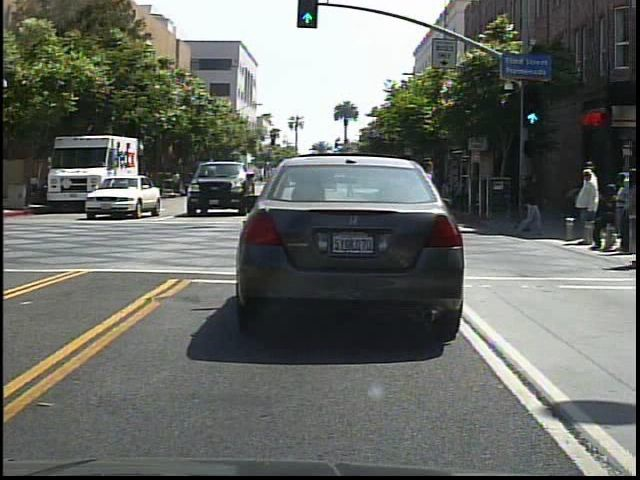person: (512, 167, 547, 238), (515, 170, 548, 241), (577, 166, 601, 251)
